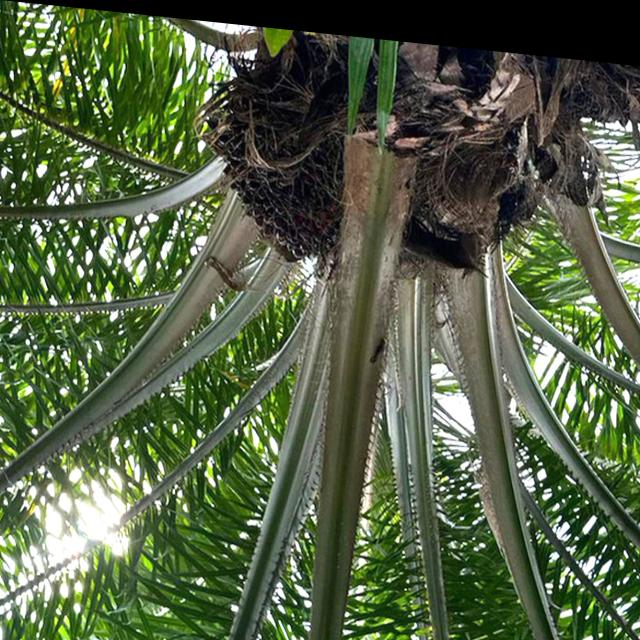almost: (196, 58, 362, 270)
